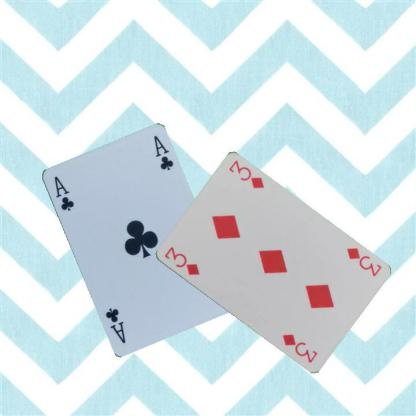3d: (161, 244, 201, 277), (343, 245, 383, 278)
Ac: (51, 173, 75, 212)
